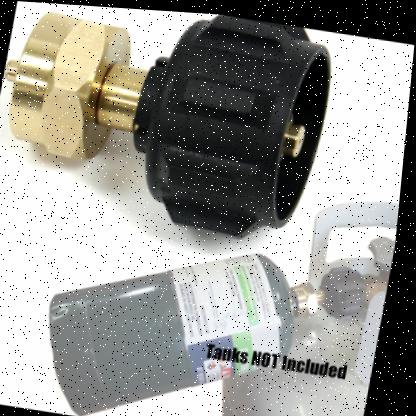gas-tank: (223, 171, 404, 415)
